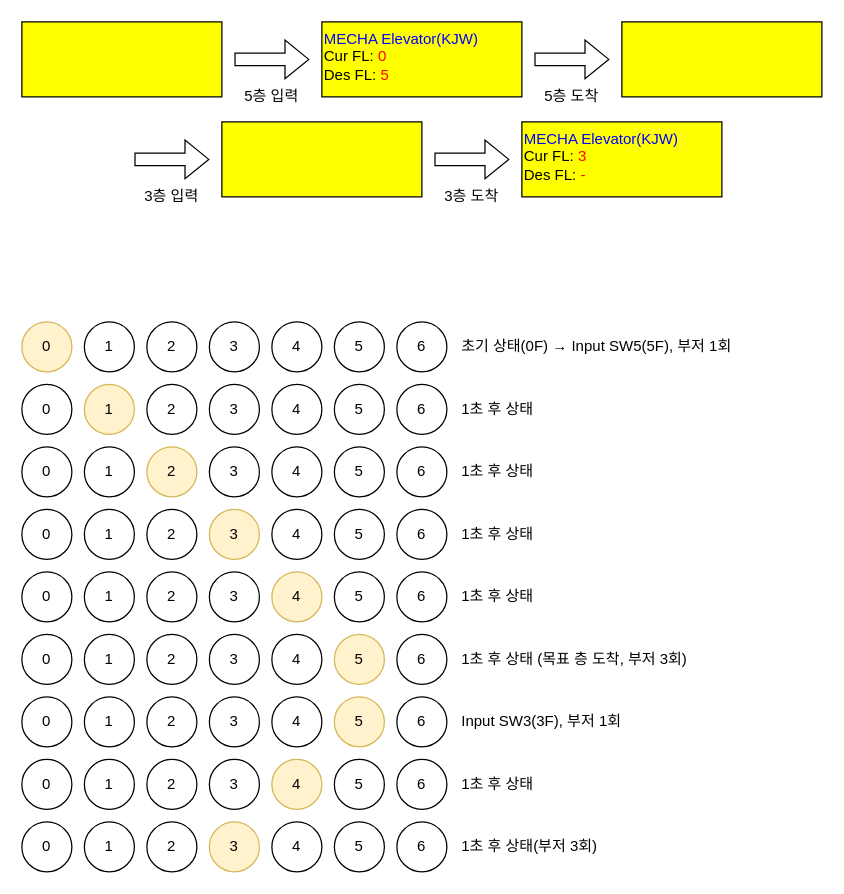
Some shapes in this 844 by 894 pixel diagram are drawn without their labels. The shapes that lost their labels are listed below. From the top down, each one's centre as x and y in pixels, then its label:
pixel 121 59: MECHA Elevator(KJW) Cur FL: 0 Des FL: -
pixel 721 59: MECHA Elevator(KJW) Cur FL: 5 Des FL: -
pixel 321 159: MECHA Elevator(KJW) Cur FL: 5 Des FL: 3
